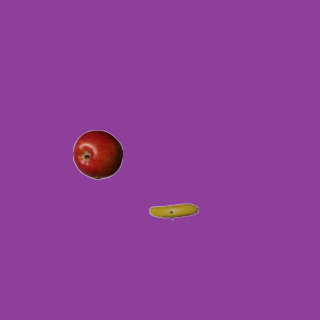Apple Braeburn: (72, 129, 122, 179)
Banana: (148, 186, 198, 236)
